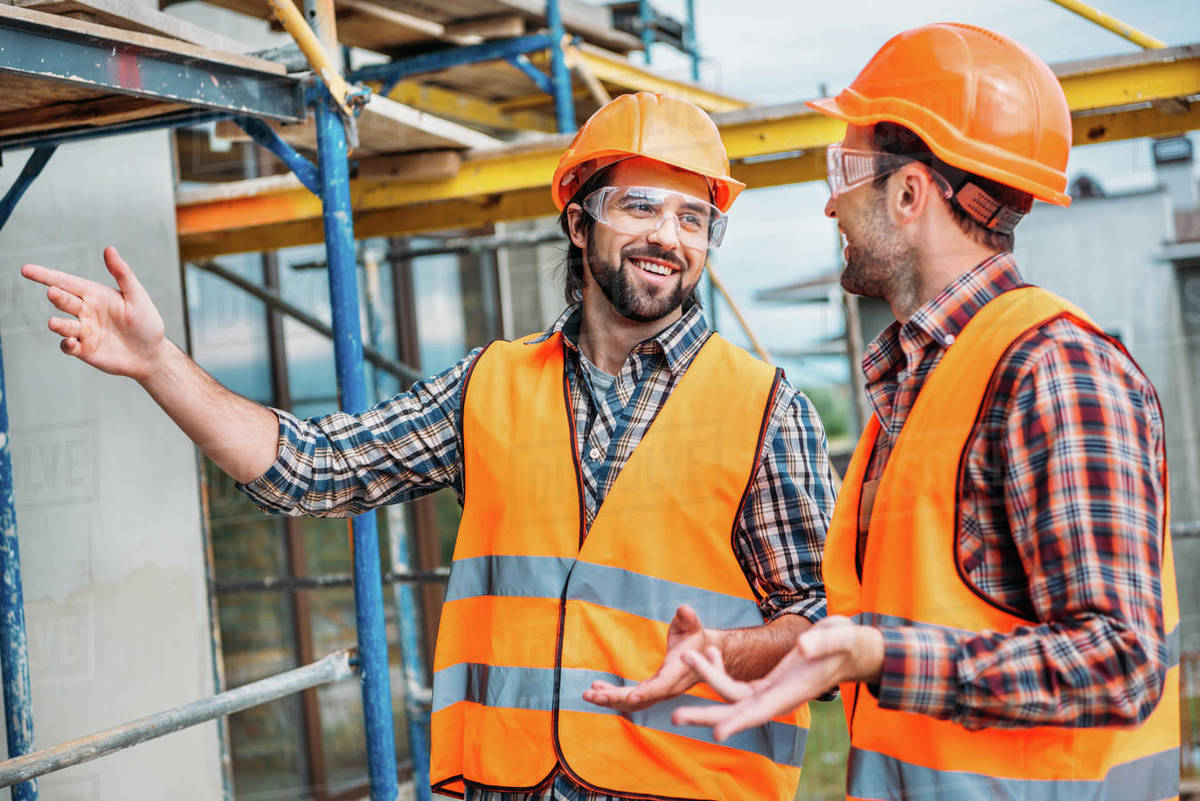Helmet: (801, 17, 1080, 212), (542, 84, 749, 212)
